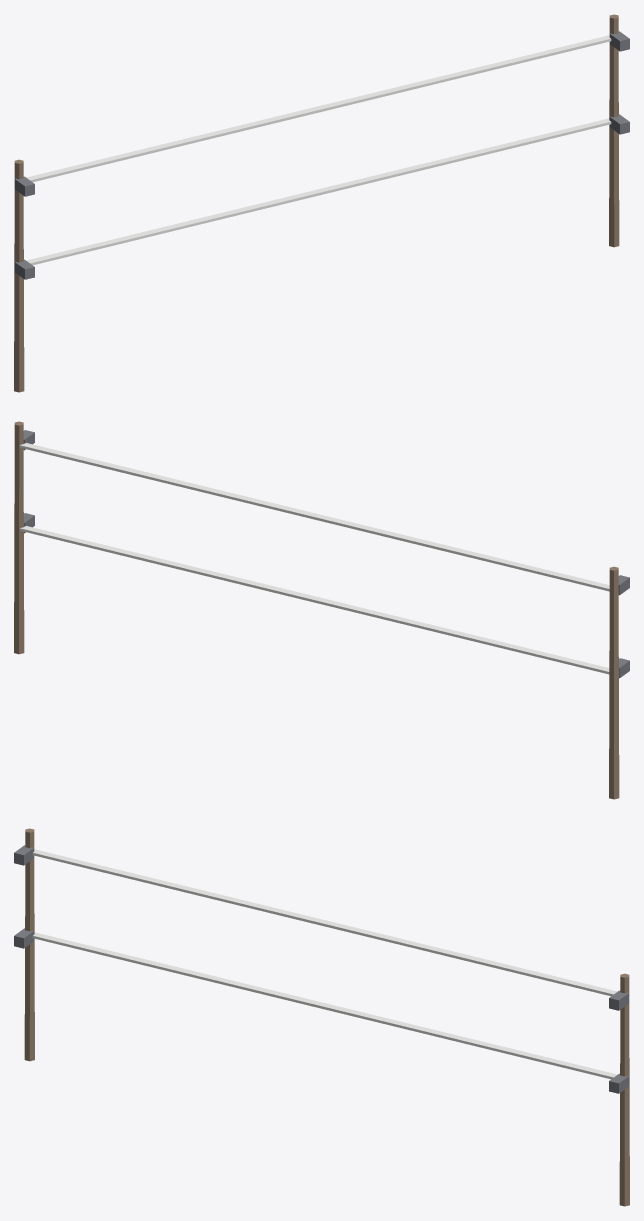
The model's file is electric-tape-run.glb.
3 views of the same model, one above another, from view 1: azimuth 30°, elevation 25°; view 2: azimuth 150°, elevation 25°; view 3: azimuth 330°, elevation 25° (orthographic).
Parts seen in each view (by area): view 1: electric-tape-run; view 2: electric-tape-run; view 3: electric-tape-run.
Boxes of the visible parts, x1,y1,x2,y2 form: electric-tape-run: (14, 14, 629, 392); electric-tape-run: (14, 421, 629, 799); electric-tape-run: (14, 828, 629, 1206).
Size of the model in its own units: 3.05 by 1.1 by 0.1176.
